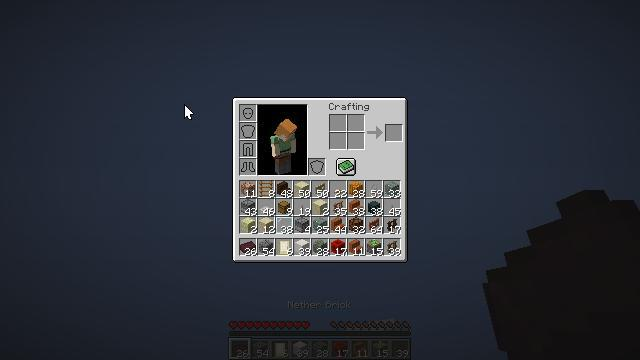cursor: (104, 184, 120, 194)
